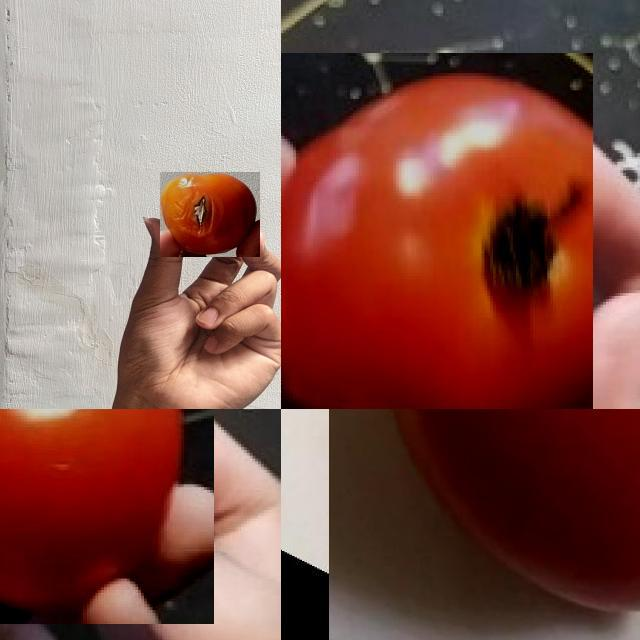Fresh Tomato: (281, 53, 593, 409), (329, 409, 640, 640), (0, 409, 213, 623)
Rotten Tomato: (160, 172, 260, 257)
